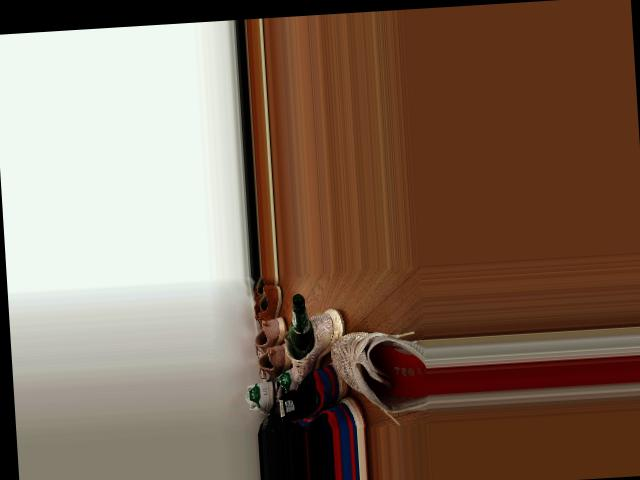beer: (288, 292, 315, 359)
